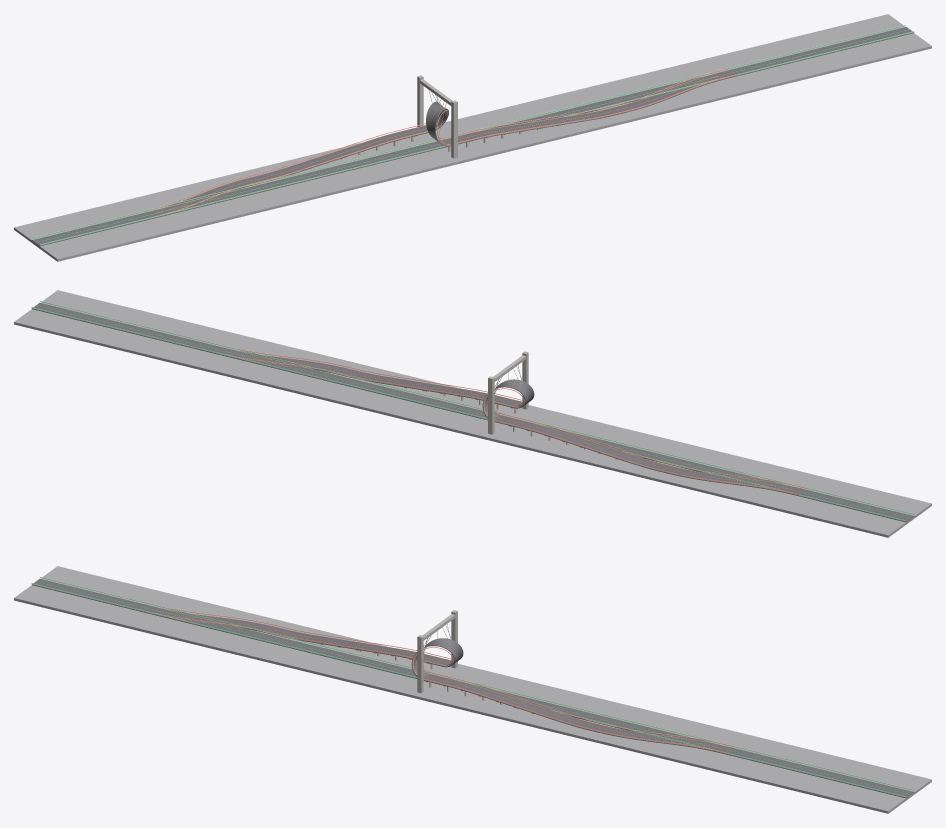
The model's file is lp01_loop_proof.glb.
3 views of the same model, one above another, from view 1: azimuth 30°, elevation 25°; view 2: azimuth 150°, elevation 25°; view 3: azimuth 330°, elevation 25° (orthographic).
Parts seen in each view (by area): view 1: LP01_bridge_deck, LP01_through_deck, LP01_loop_branch_deck, LP01_rib_through_barrierR.001, LP01_rib_through_barrierL.001, LP01_pylons_SC01_style, LP01_rib_through_edgeR.001, LP01_rib_loop_branch_barrierL.001, LP01_rib_through_edgeL.001, LP01_rib_loop_branch_barrierR.001, LP01_rib_through_centre.001, LP01_rib_loop_branch_edgeR.001 (+1 smaller); view 2: LP01_bridge_deck, LP01_through_deck, LP01_loop_branch_deck, LP01_rib_through_barrierL.001, LP01_rib_through_barrierR.001, LP01_pylons_SC01_style, LP01_rib_through_edgeL.001, LP01_rib_loop_branch_barrierR.001, LP01_rib_loop_branch_barrierL.001, LP01_rib_through_edgeR.001, LP01_rib_through_centre.001, LP01_rib_loop_branch_edgeR.001 (+1 smaller); view 3: LP01_bridge_deck, LP01_through_deck, LP01_loop_branch_deck, LP01_rib_through_barrierR.001, LP01_rib_through_barrierL.001, LP01_pylons_SC01_style, LP01_rib_loop_branch_barrierL.001, LP01_rib_through_edgeR.001, LP01_rib_loop_branch_barrierR.001, LP01_rib_through_edgeL.001, LP01_rib_through_centre.001, LP01_rib_loop_branch_edgeR.001 (+2 smaller).
Part boxes in pixels (bbox=[...]): LP01_bridge_deck: bbox=[14, 14, 931, 261]; LP01_through_deck: bbox=[31, 27, 914, 246]; LP01_loop_branch_deck: bbox=[139, 70, 736, 219]; LP01_rib_through_barrierR.001: bbox=[31, 25, 905, 238]; LP01_rib_through_barrierL.001: bbox=[40, 31, 914, 244]; LP01_pylons_SC01_style: bbox=[417, 75, 457, 158]; LP01_rib_through_edgeR.001: bbox=[32, 26, 906, 239]; LP01_rib_loop_branch_barrierL.001: bbox=[162, 74, 736, 214]; LP01_rib_through_edgeL.001: bbox=[39, 32, 913, 245]; LP01_rib_loop_branch_barrierR.001: bbox=[154, 68, 728, 208]; LP01_rib_through_centre.001: bbox=[36, 29, 909, 242]; LP01_rib_loop_branch_edgeR.001: bbox=[154, 70, 727, 209]; LP01_bridge_deck: bbox=[14, 290, 931, 537]; LP01_through_deck: bbox=[31, 303, 914, 522]; LP01_loop_branch_deck: bbox=[209, 346, 806, 496]; LP01_rib_through_barrierL.001: bbox=[40, 301, 914, 514]; LP01_rib_through_barrierR.001: bbox=[31, 307, 905, 520]; LP01_pylons_SC01_style: bbox=[488, 351, 528, 434]; LP01_rib_through_edgeL.001: bbox=[39, 302, 913, 515]; LP01_rib_loop_branch_barrierR.001: bbox=[209, 350, 799, 494]; LP01_rib_loop_branch_barrierL.001: bbox=[217, 344, 807, 488]; LP01_rib_through_edgeR.001: bbox=[32, 308, 906, 521]; LP01_rib_through_centre.001: bbox=[36, 305, 909, 518]; LP01_rib_loop_branch_edgeR.001: bbox=[209, 351, 799, 495]; LP01_bridge_deck: bbox=[14, 566, 931, 813]; LP01_through_deck: bbox=[31, 579, 914, 798]; LP01_loop_branch_deck: bbox=[138, 605, 735, 754]; LP01_rib_through_barrierR.001: bbox=[40, 577, 914, 790]; LP01_rib_through_barrierL.001: bbox=[31, 583, 905, 796]; LP01_pylons_SC01_style: bbox=[417, 610, 457, 693]; LP01_rib_loop_branch_barrierL.001: bbox=[155, 613, 727, 753]; LP01_rib_through_edgeR.001: bbox=[39, 578, 913, 791]; LP01_rib_loop_branch_barrierR.001: bbox=[160, 606, 736, 747]; LP01_rib_through_edgeL.001: bbox=[32, 584, 906, 797]; LP01_rib_through_centre.001: bbox=[36, 581, 909, 794]; LP01_rib_loop_branch_edgeR.001: bbox=[161, 608, 735, 748].
Bounding box in the file's own units: 740 × 47.45 × 64.
